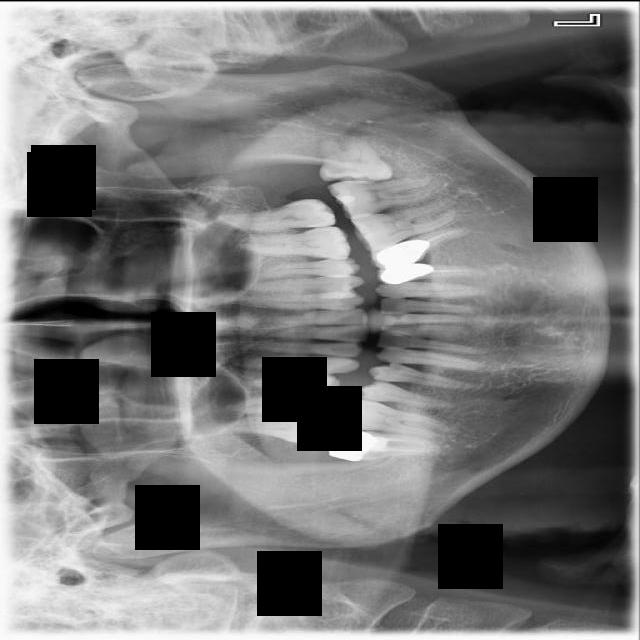52: (325, 167, 383, 228), (367, 235, 428, 274), (326, 425, 379, 463), (374, 259, 433, 286)
73: (356, 427, 434, 460), (420, 217, 467, 251), (424, 260, 487, 278), (568, 34, 582, 40)
BioHorizons Implant: (221, 195, 336, 236)
Biomet 3i Implant: (318, 135, 392, 182)
Blue Sky Bio Implant: (327, 171, 434, 220)
Caries: (214, 416, 331, 444)
Implant: (326, 426, 436, 469)
